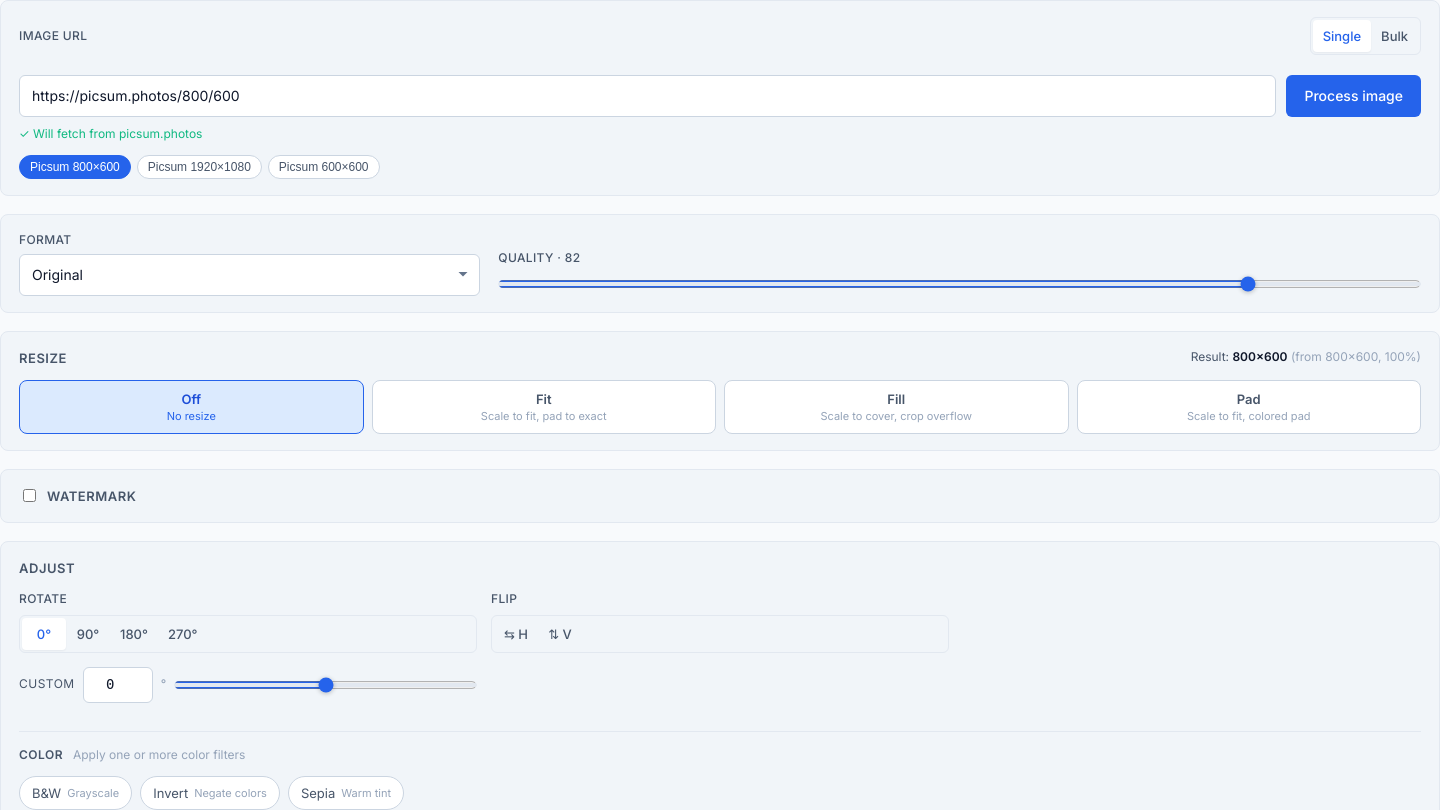
Test case: JobForm › custom rotation input clamps to [-180, 180]
Replace the text in the number field named "custom rotation angle" with "999". click: (118, 685)
box: [83,667,153,703]
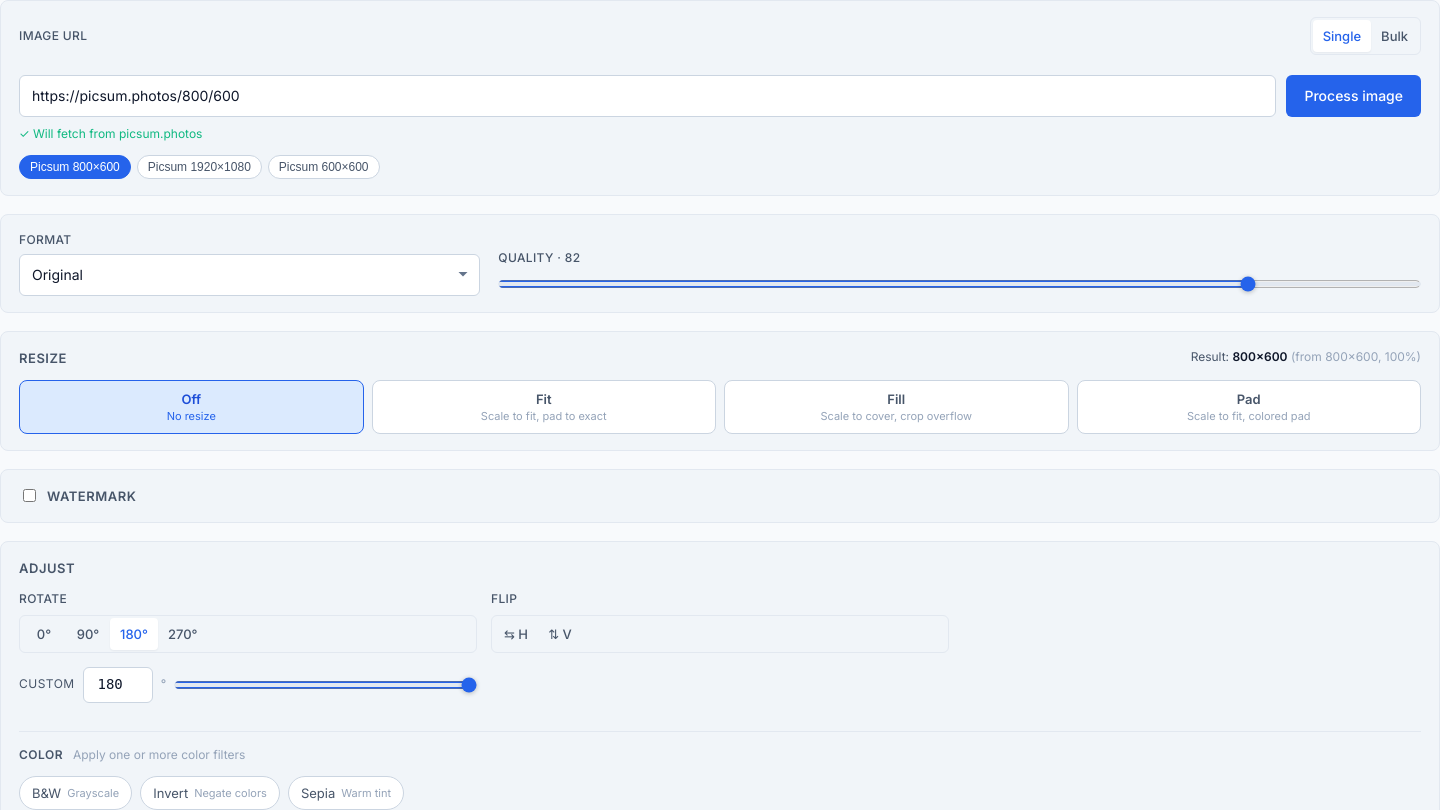
Expected: the number field named "custom rotation angle" holds "180", [83,667,153,703]
